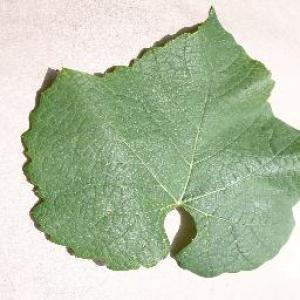Folha: (20, 4, 299, 278)
